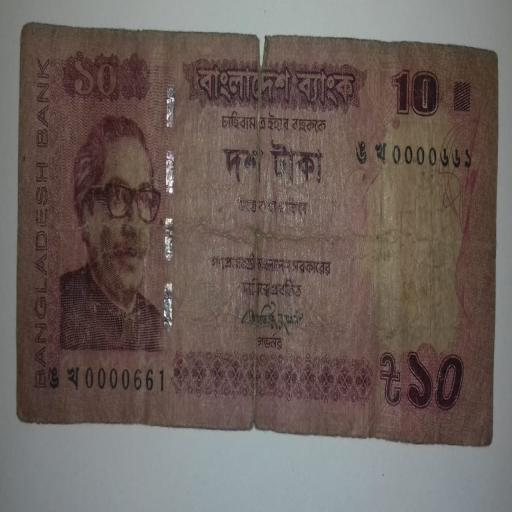10taka: (18, 28, 502, 454)
